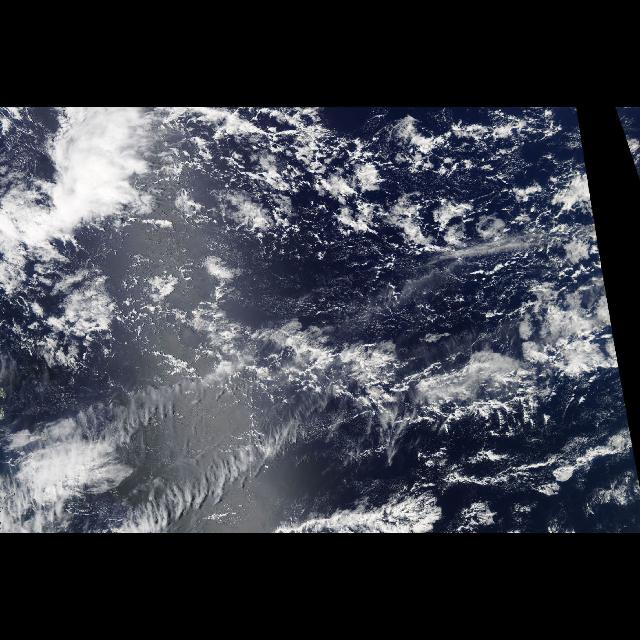Fish: (101, 223, 631, 497)
